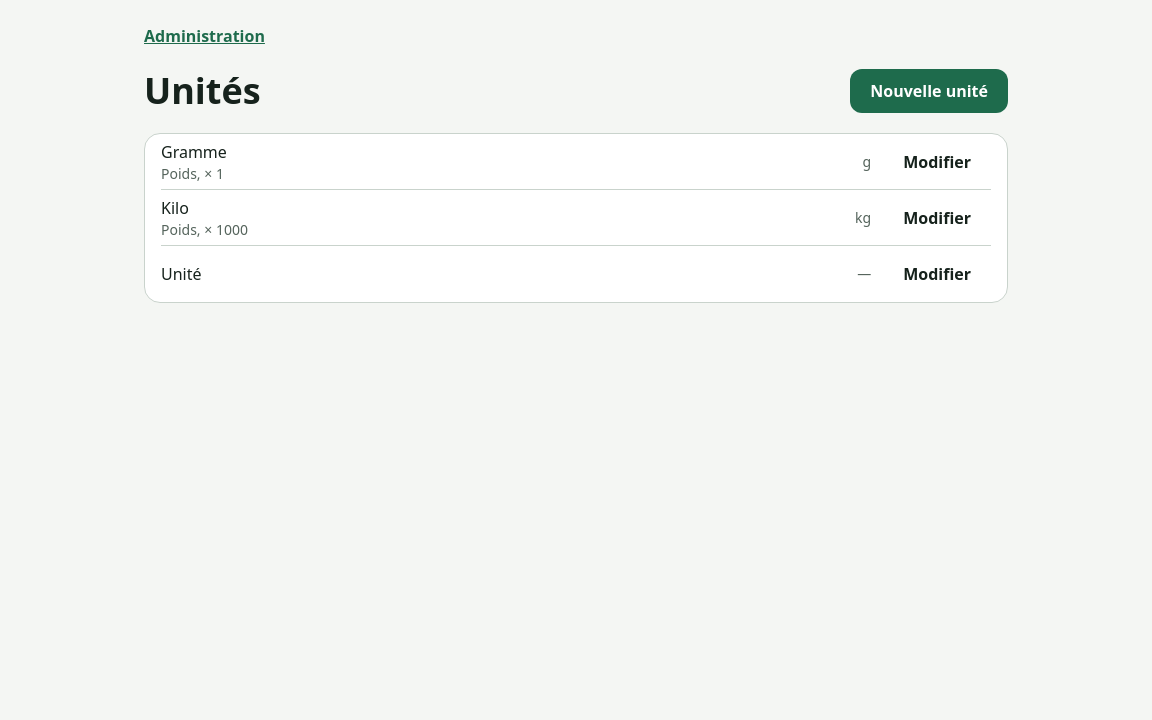
unités › relit la liste après l’enregistrement : la dimension et le facteur choisis s’y lisent
Expected: the number of list items is 3, [161,134,991,190]; [161,190,991,246]; [161,246,991,302]
Click the 3rd button "Modifier".
click(937, 274)  # box [883,252,991,296]
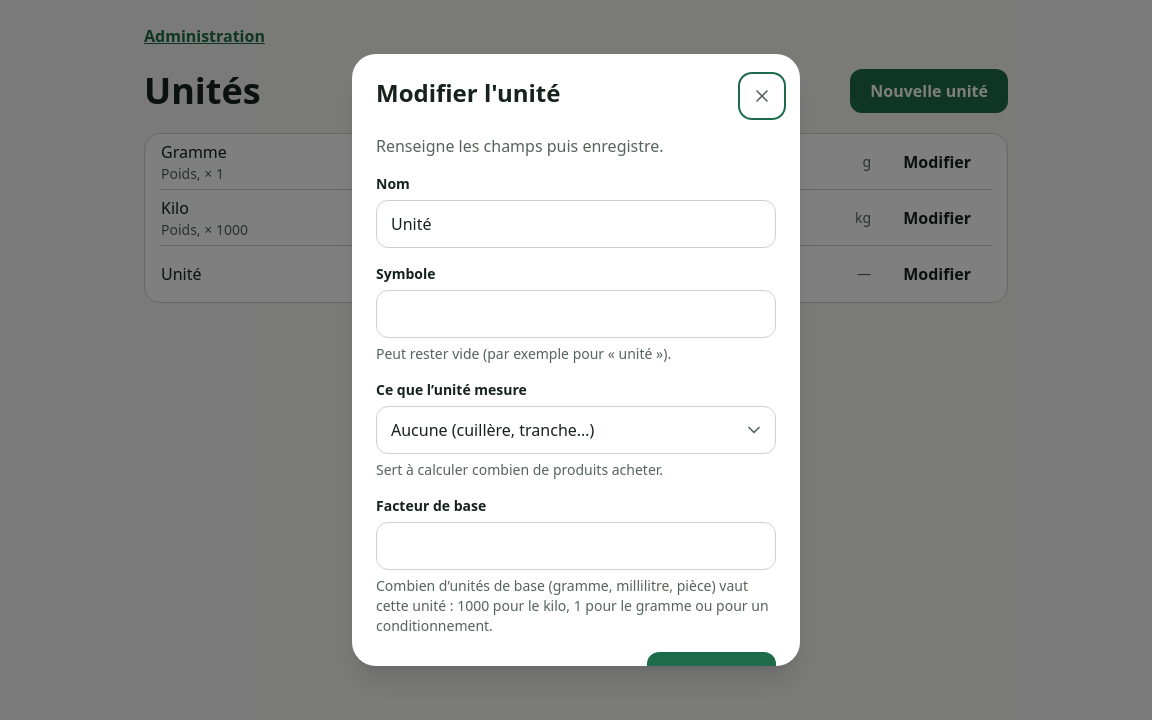
Expected: the list item does not show "×"
Select "Nombre de pièces" in the dropdown labelled "Ce que l’unité mesure" at {"x": 576, "y": 430}, box [376,406,776,454]
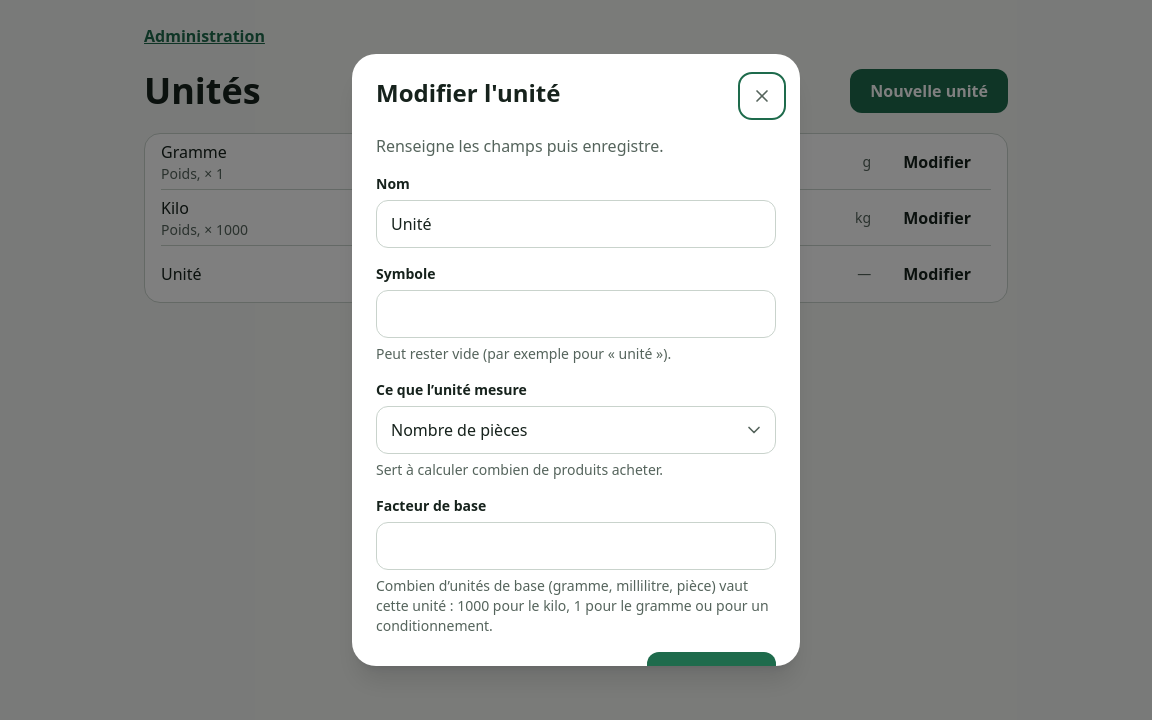
Type "1" into the number field labelled "Facteur de base".
click(576, 546); type("1")  # box [376,522,776,570]
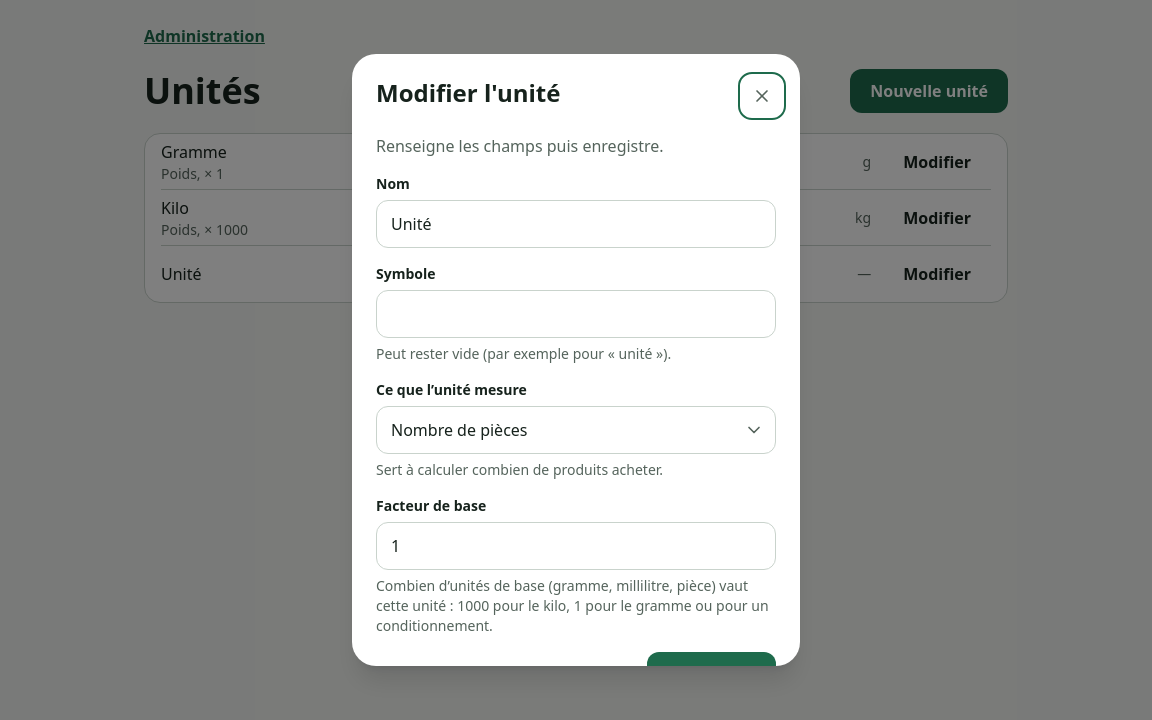
Submit the form, box [376,174,776,696]
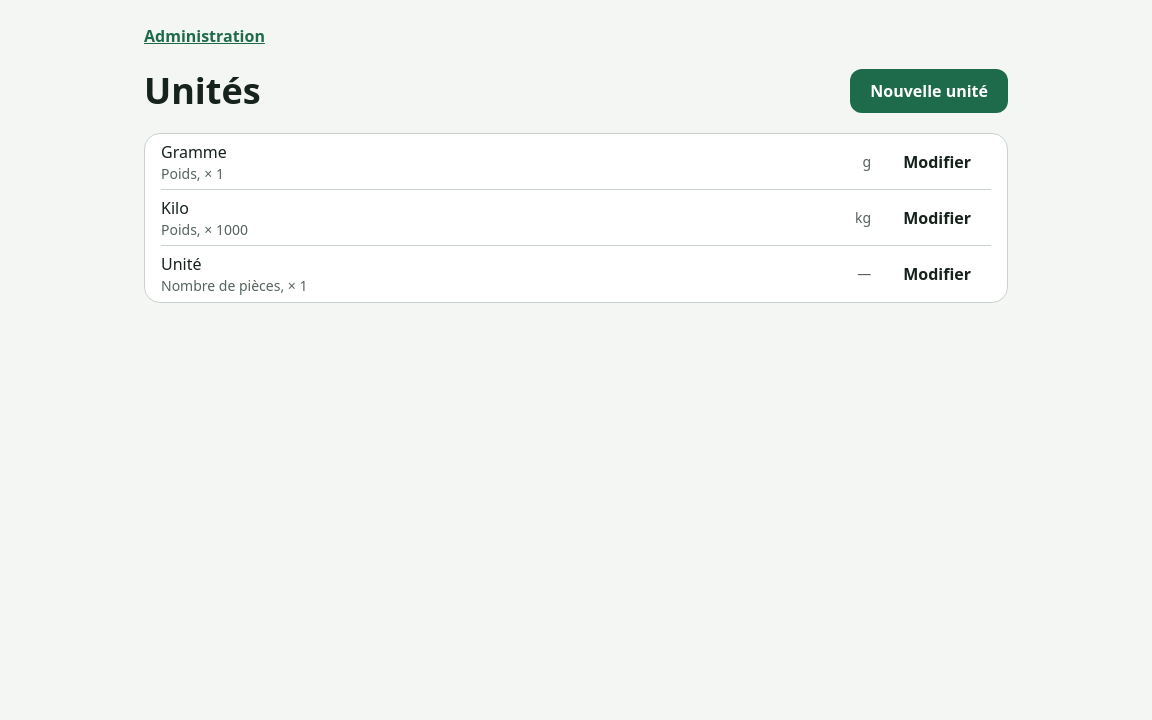
Expected: the list item "Unité Nombre de pièces, × 1 — Modifier" is shown, [161,246,991,302]
